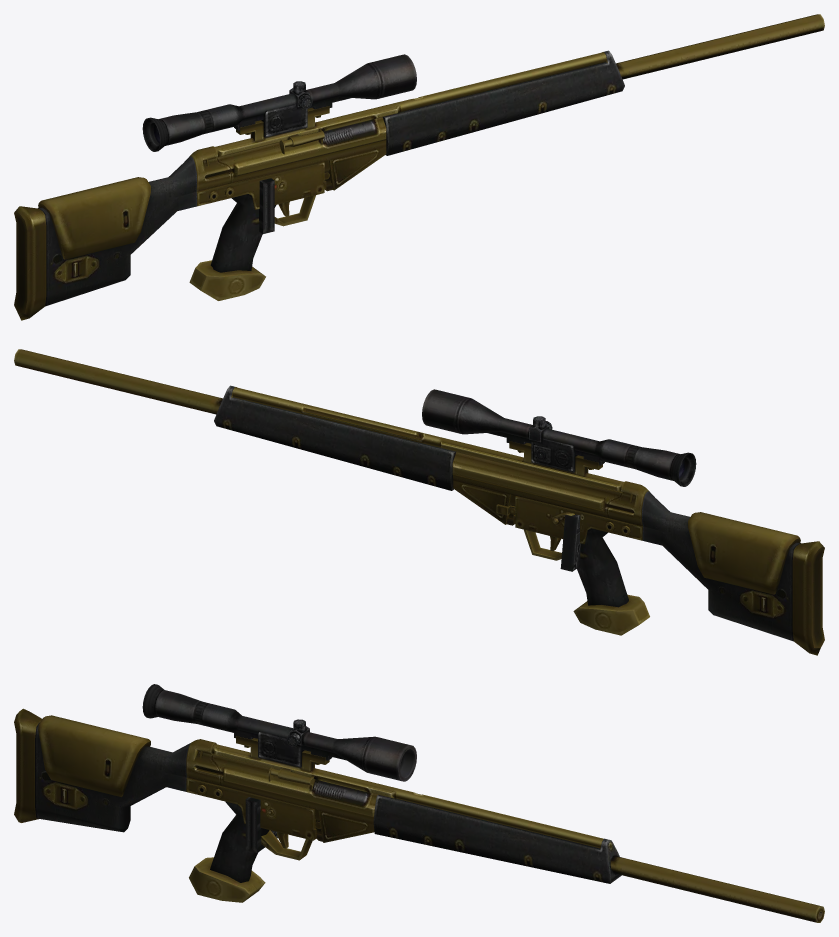
Rendered from HK-PSG1_Gold.obj.
3 renders of one model, top to bottom at view 1: azimuth 30°, elevation 25°; view 2: azimuth 150°, elevation 25°; view 3: azimuth 330°, elevation 25°, orthographic.
Visible parts, largest first — view 1: Model_HKPSG1, Model_Magazine; view 2: Model_HKPSG1, Model_Magazine; view 3: Model_HKPSG1, Model_Magazine.
Part boxes in pixels (<box>): Model_HKPSG1: <box>14,14,824,320</box>; Model_Magazine: <box>259,178,274,233</box>; Model_HKPSG1: <box>14,349,824,655</box>; Model_Magazine: <box>560,514,580,571</box>; Model_HKPSG1: <box>14,684,824,922</box>; Model_Magazine: <box>245,797,277,852</box>.
Bounding box in the file's own units: 1.15 × 0.259 × 0.0594.
Materials: 2 (2 with a texture image).
